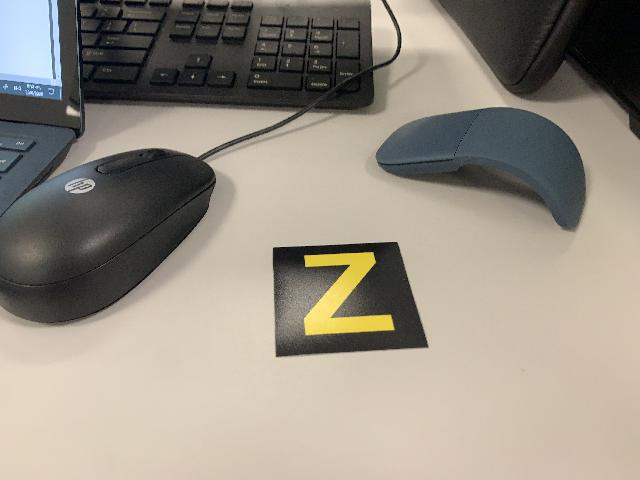alphabet_z: (272, 241, 430, 359)
